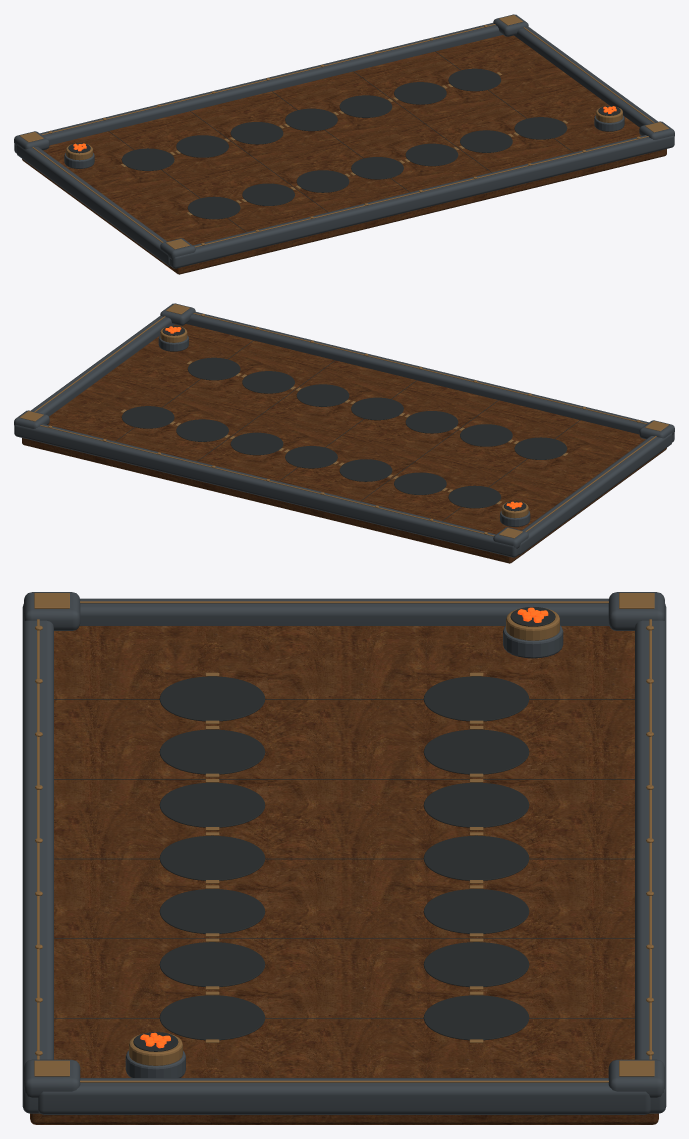
Rendered from war-table.glb.
The picture shows the model from 3 angles, top to bottom: view 1: azimuth 30°, elevation 25°; view 2: azimuth 150°, elevation 25°; view 3: azimuth 270°, elevation 25°; orthographic projection. The views are drawn at different scales.
Parts seen in each view (by area): view 1: Oak board solid, Stone long rail, Stone long rail.001, Stone end rail, Stone end rail.001, Empty recessed seat.009, Empty recessed seat.010, Empty recessed seat.011, Empty recessed seat.013, Empty recessed seat.002, Empty recessed seat.012, Empty recessed seat.004 (+9 smaller); view 2: Oak board solid, Stone long rail.001, Stone long rail, Stone end rail, Stone end rail.001, Empty recessed seat.002, Empty recessed seat.003, Empty recessed seat.004, Empty recessed seat.006, Empty recessed seat.005, Empty recessed seat.009, Empty recessed seat (+9 smaller); view 3: Oak board solid, Stone end rail.001, Stone long rail, Stone long rail.001, Stone end rail, Empty recessed seat, Empty recessed seat.007, Empty recessed seat.001, Empty recessed seat.008, Empty recessed seat.006, Empty recessed seat.013, Empty recessed seat.005 (+19 smaller).
Part boxes in pixels (x1,y1,x2,y2): Oak board solid: (22, 35, 666, 274); Stone long rail: (170, 135, 674, 268); Stone long rail.001: (14, 23, 502, 152); Stone end rail: (16, 144, 170, 266); Stone end rail.001: (514, 27, 657, 127); Empty recessed seat.009: (230, 122, 283, 144); Empty recessed seat.010: (285, 108, 337, 131); Empty recessed seat.011: (339, 95, 392, 117); Empty recessed seat.013: (448, 68, 501, 91); Empty recessed seat.002: (296, 170, 349, 192); Empty recessed seat.012: (394, 82, 446, 104); Empty recessed seat.004: (405, 143, 458, 166); Oak board solid: (22, 324, 666, 563); Stone long rail.001: (14, 424, 518, 557); Stone long rail: (186, 312, 674, 441); Stone end rail: (518, 433, 672, 555); Stone end rail.001: (31, 316, 174, 416); Empty recessed seat.002: (405, 411, 458, 433); Empty recessed seat.003: (351, 397, 403, 420); Empty recessed seat.004: (296, 384, 349, 406); Empty recessed seat.006: (187, 357, 240, 380); Empty recessed seat.005: (242, 371, 294, 393); Empty recessed seat.009: (339, 459, 392, 481); Empty recessed seat: (514, 437, 567, 459); Oak board solid: (30, 626, 658, 1124); Stone end rail.001: (38, 1078, 650, 1114); Stone long rail: (22, 604, 53, 1113); Stone long rail.001: (635, 604, 666, 1113); Stone end rail: (79, 598, 609, 625); Empty recessed seat: (159, 676, 265, 721); Empty recessed seat.007: (423, 676, 529, 721); Empty recessed seat.001: (159, 729, 265, 774); Empty recessed seat.008: (423, 729, 529, 774); Empty recessed seat.006: (159, 995, 265, 1040); Empty recessed seat.013: (423, 995, 529, 1040); Empty recessed seat.005: (159, 942, 265, 986).
Bounding box in the file's own units: 18.54 × 1.1 × 10.24.
5 materials, 1 textured.
